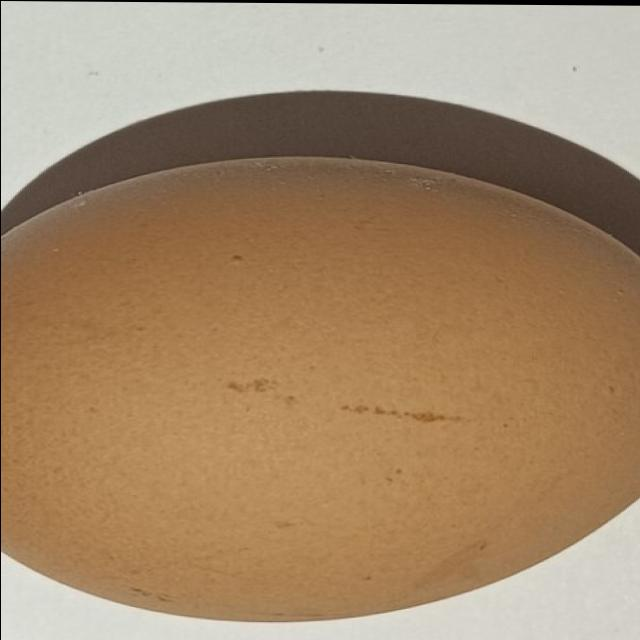fresh: (0, 146, 640, 632)
